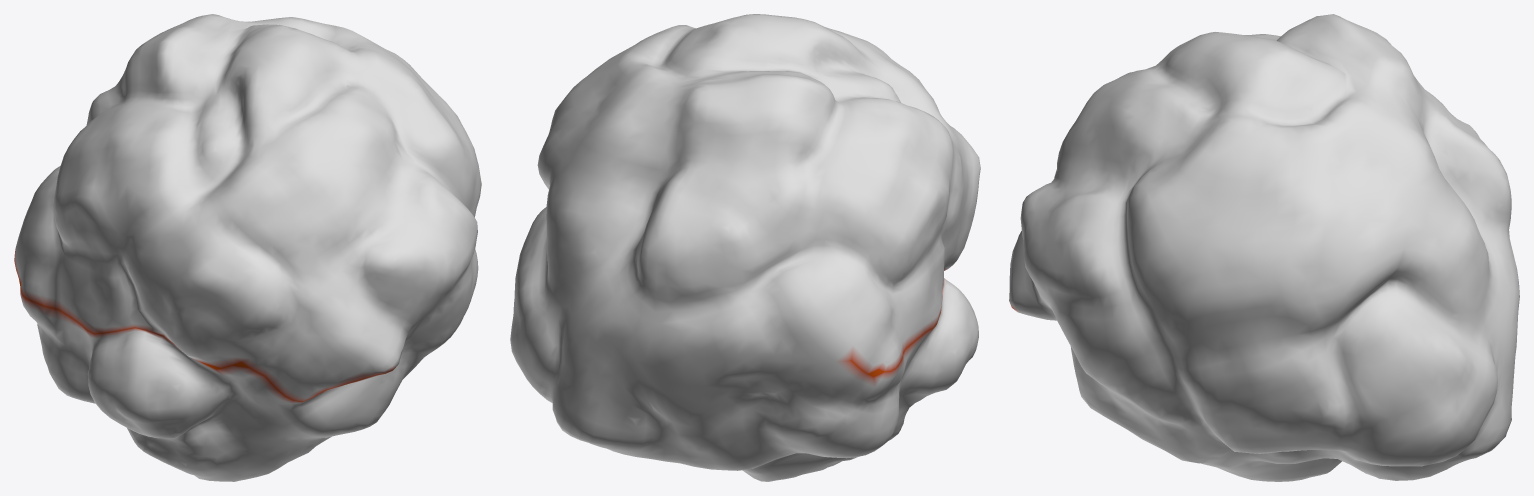
File: rock.fbx
3 views of the same model, side by side, from view 1: azimuth 30°, elevation 25°; view 2: azimuth 150°, elevation 25°; view 3: azimuth 270°, elevation 25° (orthographic). The views are drawn at different scales.
Visible parts, largest first — view 1: ZBrush_defualt_group; view 2: ZBrush_defualt_group; view 3: ZBrush_defualt_group.
Part boxes in pixels (x1,y1,x2,y2): ZBrush_defualt_group: [14, 14, 481, 481]; ZBrush_defualt_group: [510, 14, 980, 481]; ZBrush_defualt_group: [1009, 14, 1519, 481].
Bounding box in the file's own units: 0.9803 × 1.04 × 1.07.
